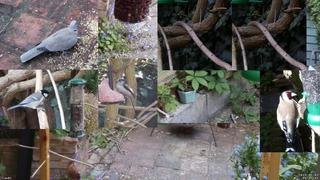collared dove: (20, 20, 78, 63)
goldfinch: (276, 90, 300, 152)
great tit: (6, 90, 51, 112)
long tailed tit: (116, 78, 137, 120)
